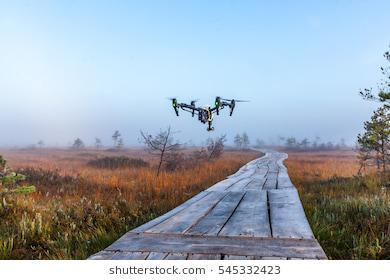drone: (167, 94, 251, 134)
